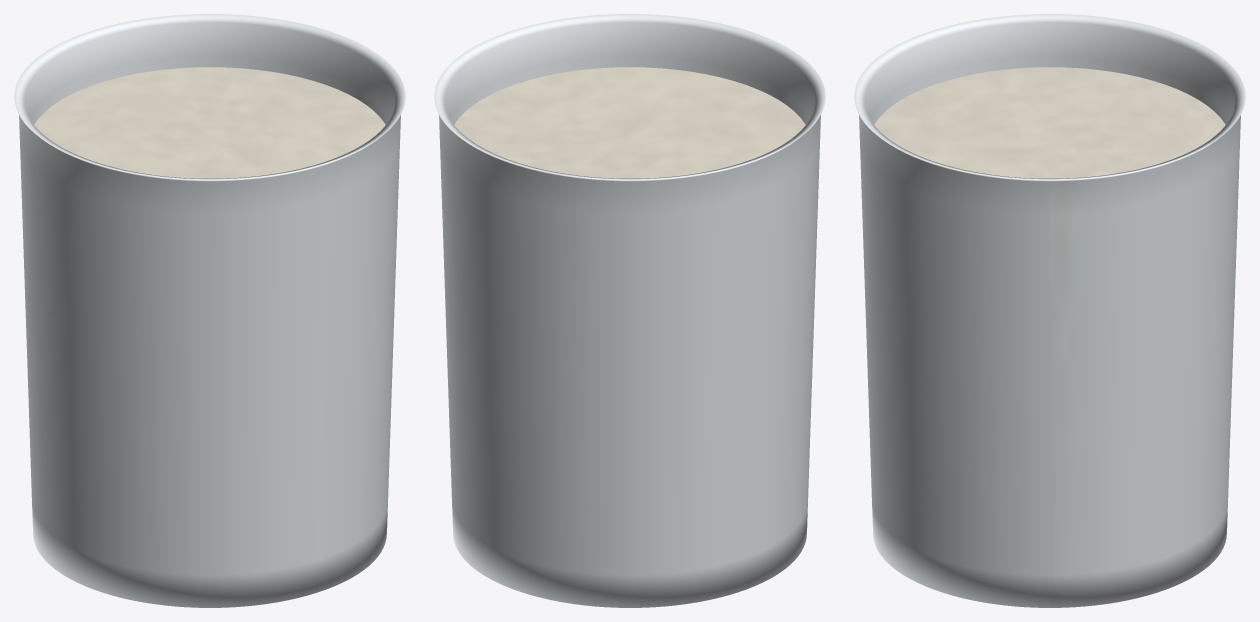
Rendered from overturned-coffee.glb.
The picture shows the model from 3 angles, left to right: view 1: azimuth 30°, elevation 25°; view 2: azimuth 150°, elevation 25°; view 3: azimuth 270°, elevation 25°; orthographic projection.
Visible parts, largest first — view 1: clear, satin; view 2: clear, satin; view 3: clear, satin.
Boxes of the visible parts, <box> form: clear: <box>14,14,405,607</box>; satin: <box>34,67,385,178</box>; clear: <box>434,14,825,607</box>; satin: <box>454,67,805,178</box>; clear: <box>854,14,1245,607</box>; satin: <box>874,67,1225,178</box>.
Size of the model in its own units: 0.073 by 0.0898 by 0.073.
2 materials, 2 textured.
